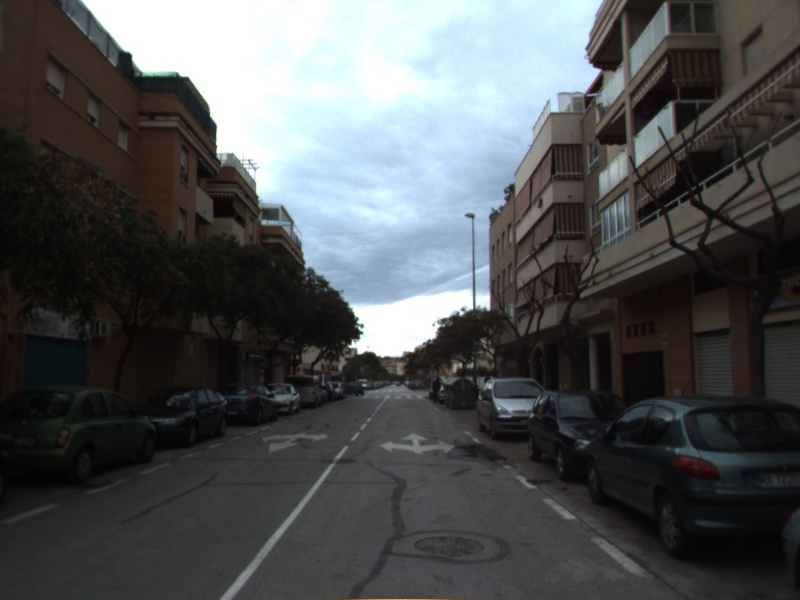STRAIGHT_LEFT_RIGHT: (377, 430, 457, 456)
